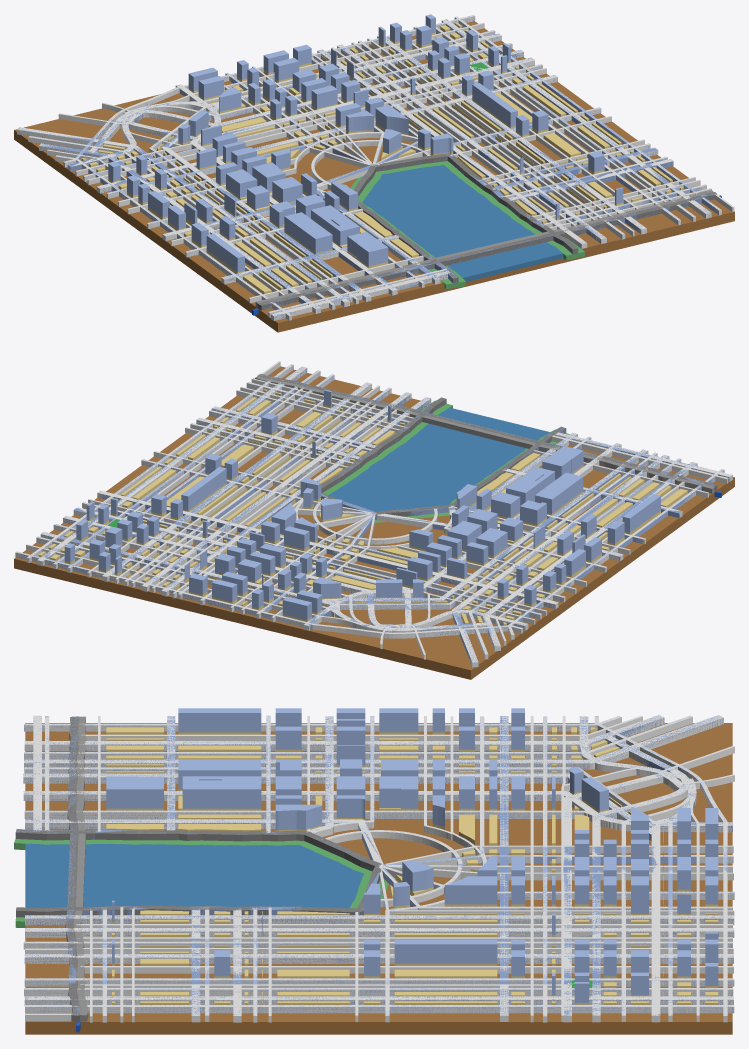
File: city.glb
The picture shows the model from 3 angles, top to bottom: view 1: azimuth 30°, elevation 25°; view 2: azimuth 150°, elevation 25°; view 3: azimuth 270°, elevation 25°; orthographic projection. The views are drawn at different scales.
Visible parts, largest first — view 1: roads, buildings_divided, ground, blocks, main_roads, sea, major_roads, water_roads, coastline, water_roads_secondary; view 2: roads, buildings_divided, ground, blocks, main_roads, major_roads, sea, water_roads, water_roads_secondary, coastline; view 3: roads, buildings_divided, ground, main_roads, blocks, sea, major_roads, water_roads, water_roads_secondary, coastline.
Boxes of the visible parts, left/top/right/bottom form: roads: left=17, top=15, right=734, bottom=320; buildings_divided: left=108, top=14, right=623, bottom=272; ground: left=14, top=21, right=734, bottom=332; blocks: left=82, top=22, right=683, bottom=294; main_roads: left=17, top=19, right=714, bottom=320; sea: left=362, top=165, right=563, bottom=281; major_roads: left=29, top=15, right=721, bottom=320; water_roads: left=257, top=153, right=716, bottom=310; coastline: left=350, top=161, right=584, bottom=289; water_roads_secondary: left=255, top=190, right=713, bottom=307; roads: left=15, top=361, right=732, bottom=667; buildings_divided: left=64, top=389, right=660, bottom=620; ground: left=14, top=366, right=734, bottom=679; blocks: left=38, top=389, right=687, bottom=625; main_roads: left=41, top=367, right=732, bottom=666; major_roads: left=15, top=364, right=727, bottom=654; sea: left=328, top=407, right=549, bottom=511; water_roads: left=257, top=373, right=717, bottom=516; water_roads_secondary: left=255, top=376, right=714, bottom=493; coastline: left=323, top=400, right=569, bottom=522; roads: left=23, top=715, right=734, bottom=1022; buildings_divided: left=106, top=708, right=718, bottom=1002; ground: left=25, top=723, right=732, bottom=1034; main_roads: left=16, top=715, right=734, bottom=1015; blocks: left=106, top=727, right=718, bottom=1004; sea: left=25, top=843, right=364, bottom=908; major_roads: left=24, top=715, right=734, bottom=1015; water_roads: left=15, top=716, right=381, bottom=1021; water_roads_secondary: left=73, top=716, right=88, bottom=1021; coastline: left=14, top=839, right=388, bottom=927.
Size of the model in its own units: 103 by 6 by 102.
